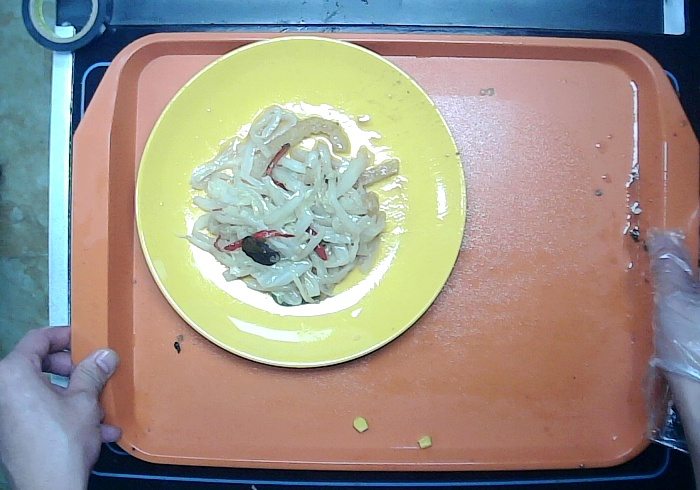HZYJPL-Huang_Se_Yuan_Pan: (128, 22, 472, 370)
